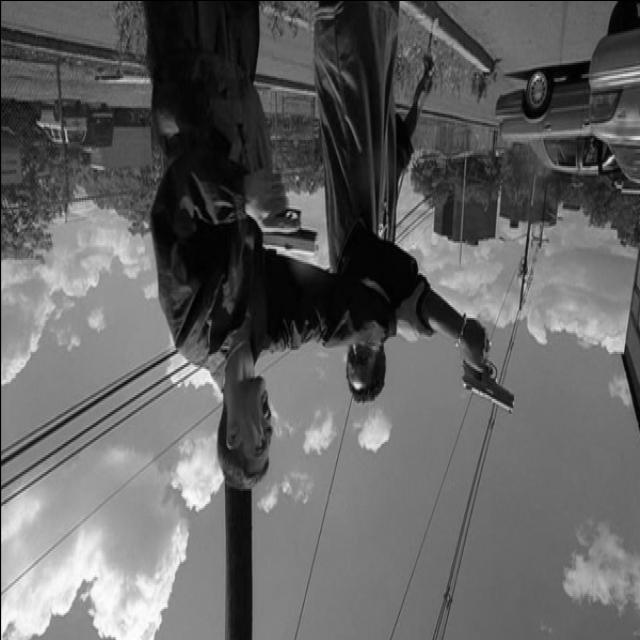weapons: (441, 314, 529, 456), (239, 165, 322, 272)
